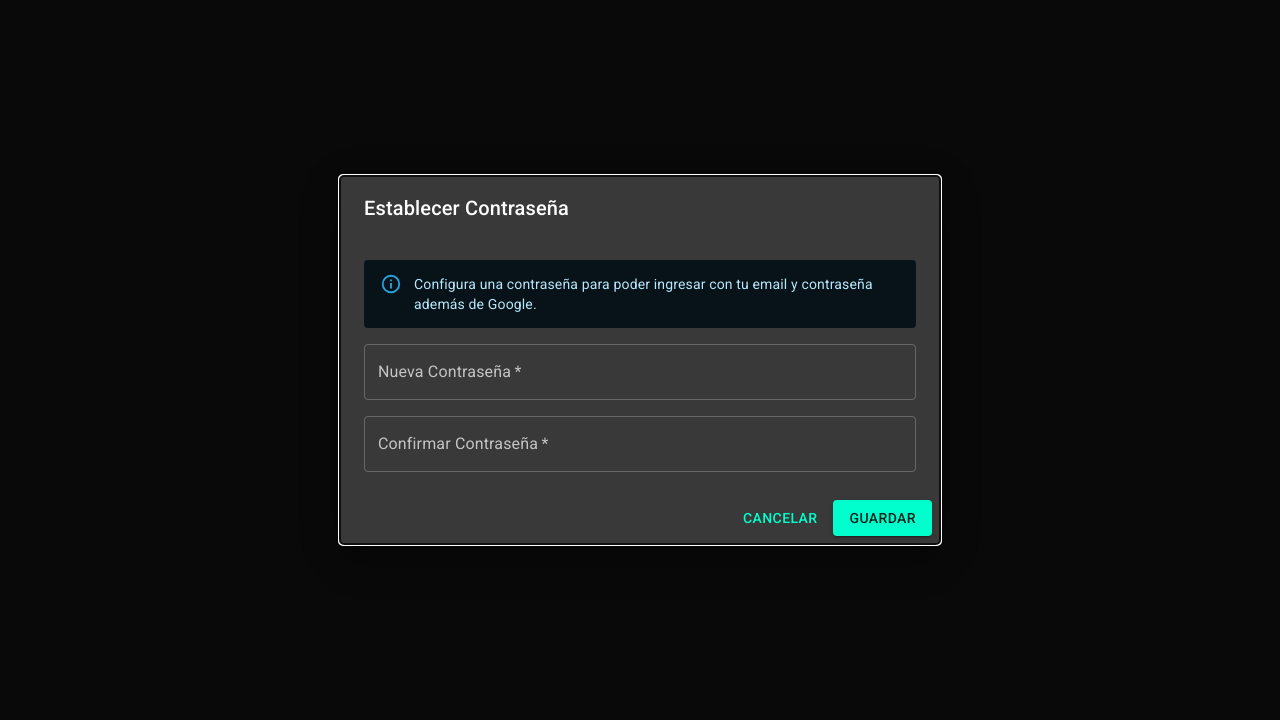
Test: SetInitialPasswordDialog › validates password length
The image size is (1280, 720).
Type "123" into the password field labelled "Nueva Contraseña *" at [640, 372], box [364,344,916,400]
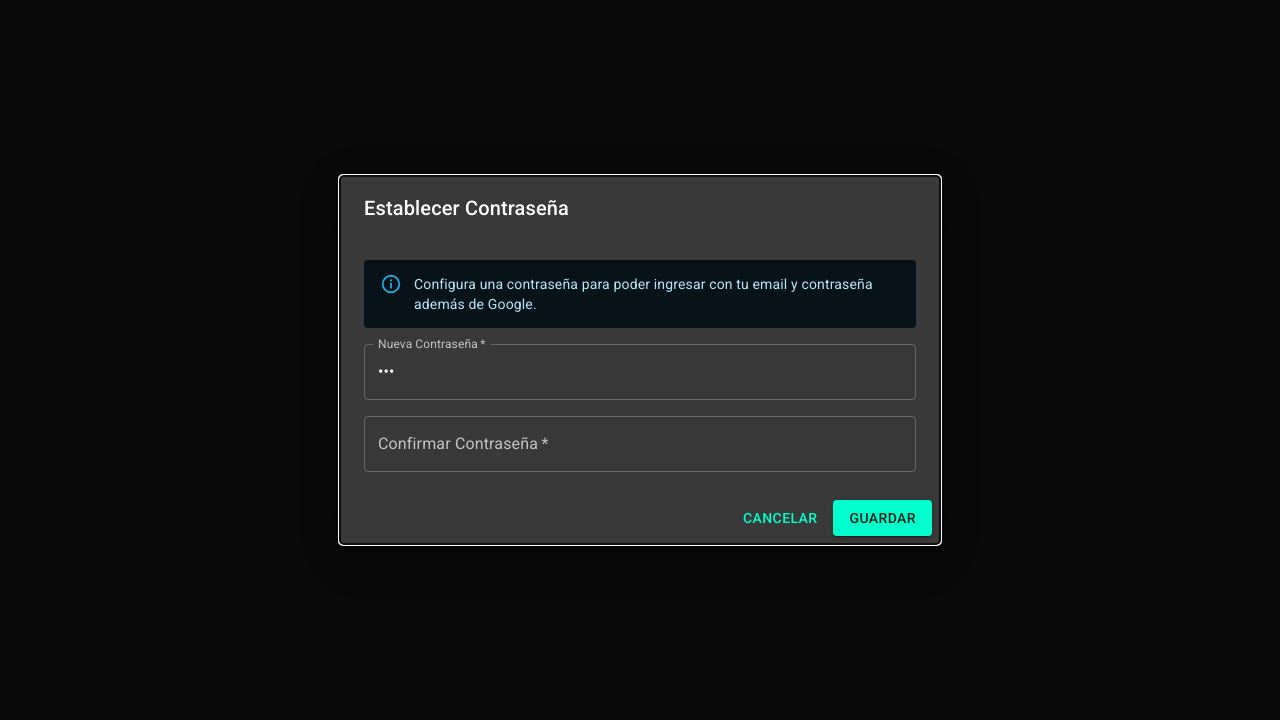
Type "123" into the password field labelled "Confirmar Contraseña *" at [640, 444], box [364,416,916,472]
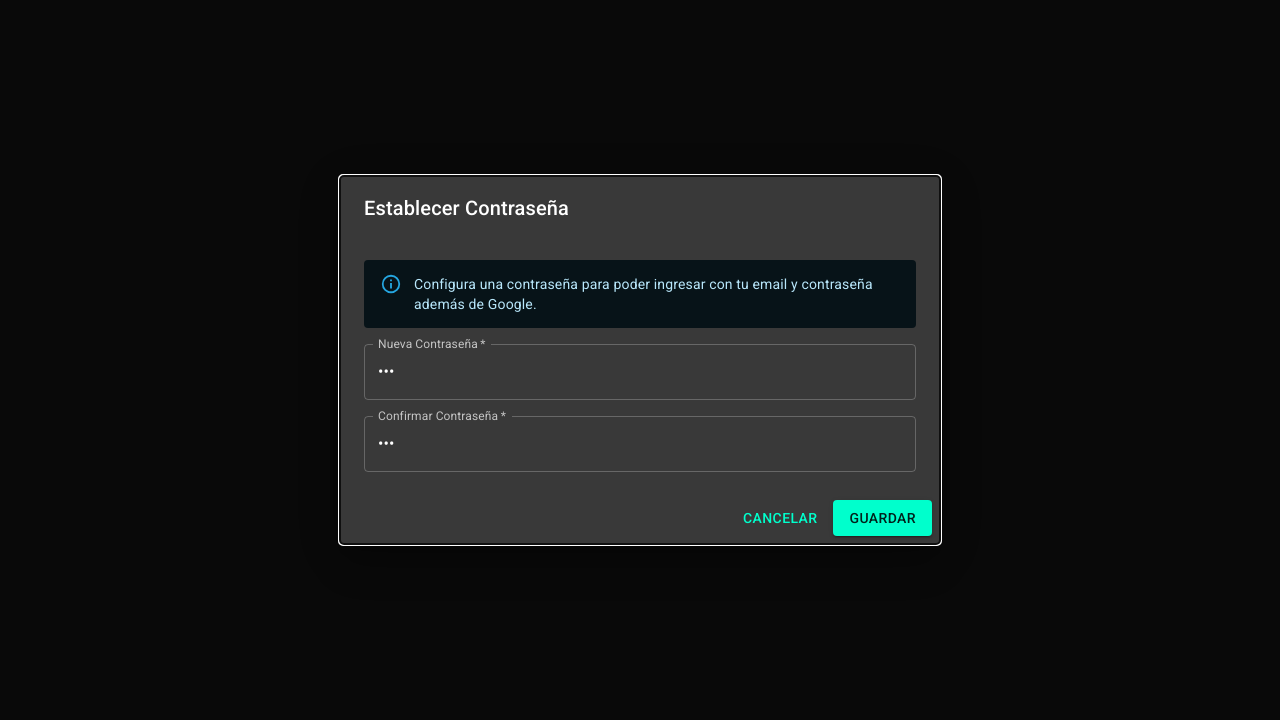
Click the button "Guardar" at [883, 518], box [834,500,932,536]
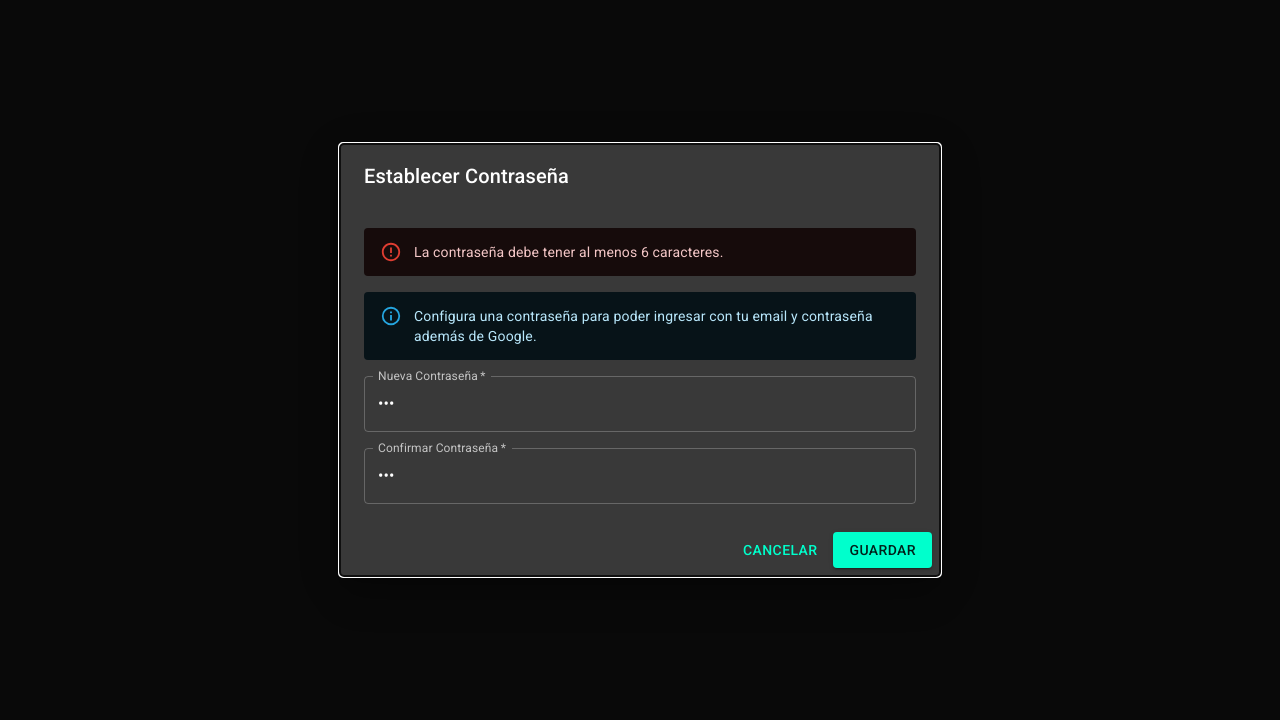
Now the text "La contraseña debe tener al menos 6 caracteres." is shown, box [414,244,724,260]
